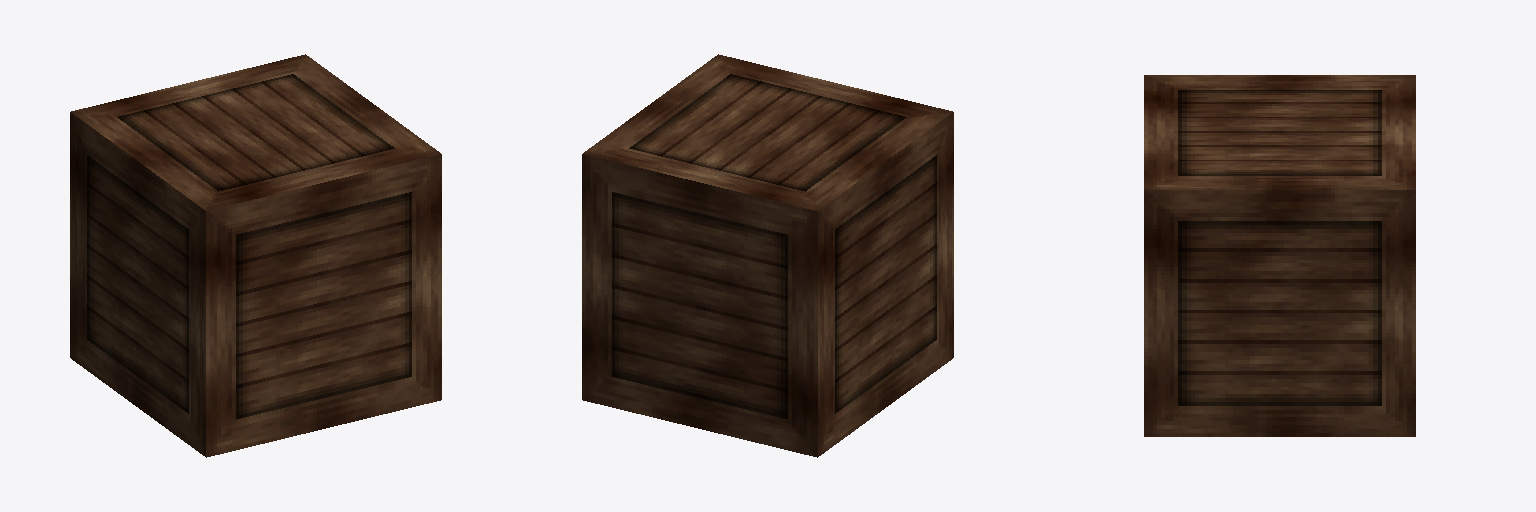
The picture shows the model from 3 angles: view 1: azimuth 30°, elevation 25°; view 2: azimuth 150°, elevation 25°; view 3: azimuth 270°, elevation 25°; orthographic projection.
Visible parts, largest first — view 1: Cube; view 2: Cube; view 3: Cube.
Boxes of the visible parts, box(x1,y1,x2,y2) form: Cube: box(70, 54, 441, 457); Cube: box(582, 54, 953, 457); Cube: box(1144, 75, 1415, 436).
Bounding box in the file's own units: 2 × 2 × 2.
Materials: 1 (1 with a texture image).